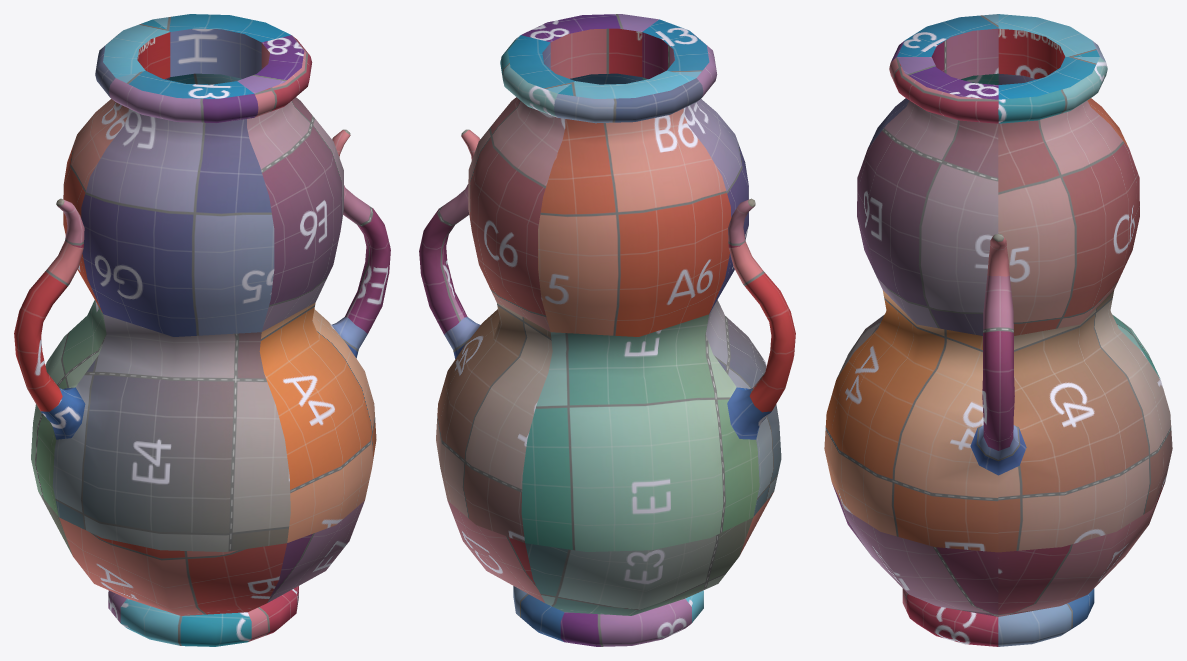
Rendered from RoundVase_SHAT.fbx.
3 renders of one model, left to right at view 1: azimuth 30°, elevation 25°; view 2: azimuth 150°, elevation 25°; view 3: azimuth 270°, elevation 25°, orthographic.
Visible parts, largest first — view 1: RoundVase_SHAT.001; view 2: RoundVase_SHAT.001; view 3: RoundVase_SHAT.001.
Part boxes in pixels (x1,y1,x2,y2): RoundVase_SHAT.001: (14,14,390,646); RoundVase_SHAT.001: (419,14,795,646); RoundVase_SHAT.001: (824,14,1172,646).
Bounding box in the file's own units: 1.22 × 1.73 × 0.9854.
1 material, 1 textured.
